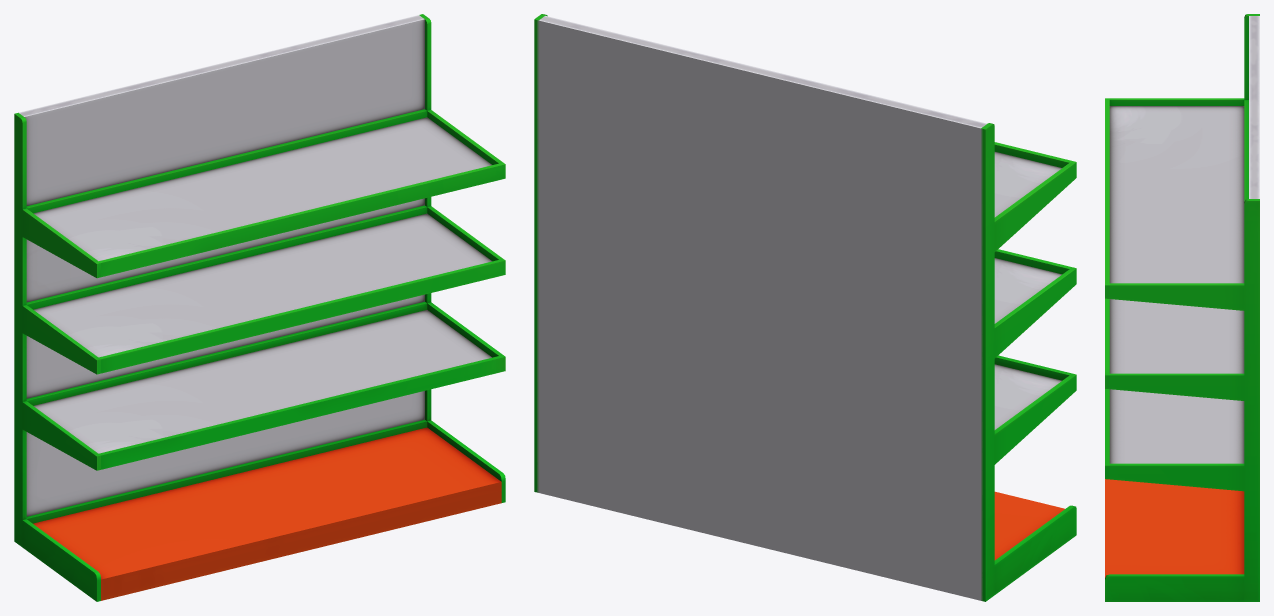
Rendered from CommShelving01_1.FBX.
The picture shows the model from 3 angles, left to right: view 1: azimuth 30°, elevation 25°; view 2: azimuth 150°, elevation 25°; view 3: azimuth 270°, elevation 25°; orthographic projection. The views are drawn at different scales.
Parts seen in each view (by area): view 1: CommShelving01_1; view 2: CommShelving01_1; view 3: CommShelving01_1.
Boxes of the visible parts, <box> form: CommShelving01_1: <box>14,14,505,601</box>; CommShelving01_1: <box>534,14,1076,601</box>; CommShelving01_1: <box>1105,14,1259,601</box>.
Size of what is drawn, in the model's own units: 2 by 2 by 0.7.
